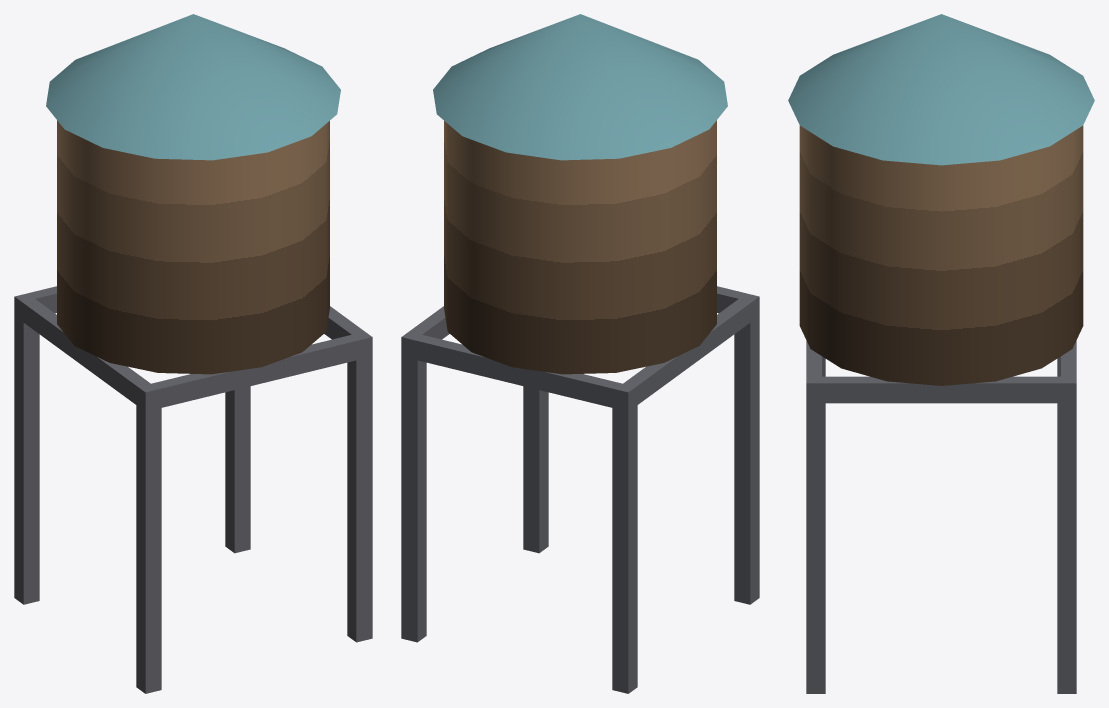
The model's file is WaterTower_BM.fbx.
3 views of the same model, side by side, from view 1: azimuth 30°, elevation 25°; view 2: azimuth 150°, elevation 25°; view 3: azimuth 270°, elevation 25° (orthographic). The views are drawn at different scales.
Visible parts, largest first — view 1: WaterTower; view 2: WaterTower; view 3: WaterTower.
Part boxes in pixels (left/top/right/bottom): WaterTower: left=14, top=14, right=372, bottom=693; WaterTower: left=401, top=14, right=759, bottom=693; WaterTower: left=788, top=14, right=1094, bottom=693.
Bounding box in the file's own units: 596 × 1335 × 596.
